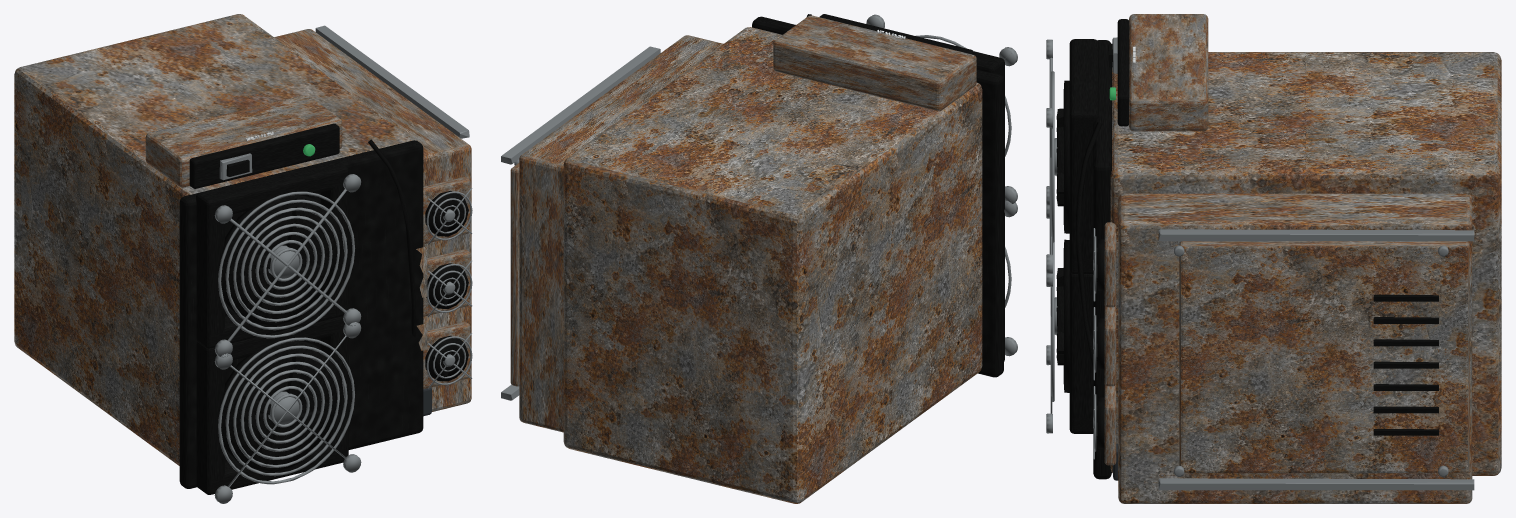
The model's file is rig-01.glb.
The picture shows the model from 3 angles, left to right: view 1: azimuth 30°, elevation 25°; view 2: azimuth 150°, elevation 25°; view 3: azimuth 270°, elevation 25°; orthographic projection. The views are drawn at different scales.
Visible parts, largest first — view 1: aluminium hash chamber, front cooling plate, side power supply, top controller, lower main fan well, upper main fan well, controller face, upper main frame, upper main frame.003, lower main frame.003, extruded side rail.001, lower main frame.001 (+28 smaller); view 2: aluminium hash chamber, side power supply, top controller, front cooling plate, extruded side rail.001, side service skin, controller face; view 3: side service skin, aluminium hash chamber, side power supply, top controller, front cooling plate, extruded side rail.001, extruded side rail, lower main frame.002, upper main frame.002, upper main frame, worn signal lead, controller face (+9 smaller).
Part boxes in pixels (x1=…): aluminium hash chamber: x1=14, y1=14, x2=414, y2=465; front cooling plate: x1=179, y1=140, x2=423, y2=488; side power supply: x1=274, y1=29, x2=471, y2=411; top controller: x1=145, y1=95, x2=342, y2=187; lower main fan well: x1=219, y1=340, x2=341, y2=472; upper main fan well: x1=219, y1=194, x2=341, y2=326; controller face: x1=189, y1=123, x2=339, y2=188; upper main frame: x1=196, y1=159, x2=348, y2=216; upper main frame.003: x1=196, y1=195, x2=224, y2=348; lower main frame.003: x1=196, y1=342, x2=224, y2=494; extruded side rail.001: x1=315, y1=25, x2=469, y2=138; lower main frame.001: x1=196, y1=442, x2=346, y2=494; aluminium hash chamber: x1=563, y1=27, x2=982, y2=503; side power supply: x1=519, y1=35, x2=723, y2=432; top controller: x1=773, y1=15, x2=976, y2=111; front cooling plate: x1=752, y1=16, x2=1003, y2=377; extruded side rail.001: x1=501, y1=46, x2=660, y2=164; side service skin: x1=510, y1=163, x2=519, y2=386; controller face: x1=819, y1=14, x2=973, y2=54; side service skin: x1=1179, y1=241, x2=1469, y2=473; aluminium hash chamber: x1=1110, y1=52, x2=1501, y2=475; side power supply: x1=1118, y1=193, x2=1472, y2=503; top controller: x1=1129, y1=14, x2=1208, y2=131; front cooling plate: x1=1093, y1=40, x2=1111, y2=479; extruded side rail.001: x1=1158, y1=229, x2=1474, y2=241; extruded side rail: x1=1158, y1=478, x2=1474, y2=490; lower main frame.002: x1=1069, y1=271, x2=1093, y2=433; upper main frame.002: x1=1069, y1=115, x2=1098, y2=273; upper main frame: x1=1069, y1=39, x2=1098, y2=130; worn signal lead: x1=1075, y1=122, x2=1102, y2=368; controller face: x1=1117, y1=19, x2=1129, y2=126.
Bounding box in the file's own units: 1.49 × 1.46 × 1.72.
7 materials, 3 textured.
